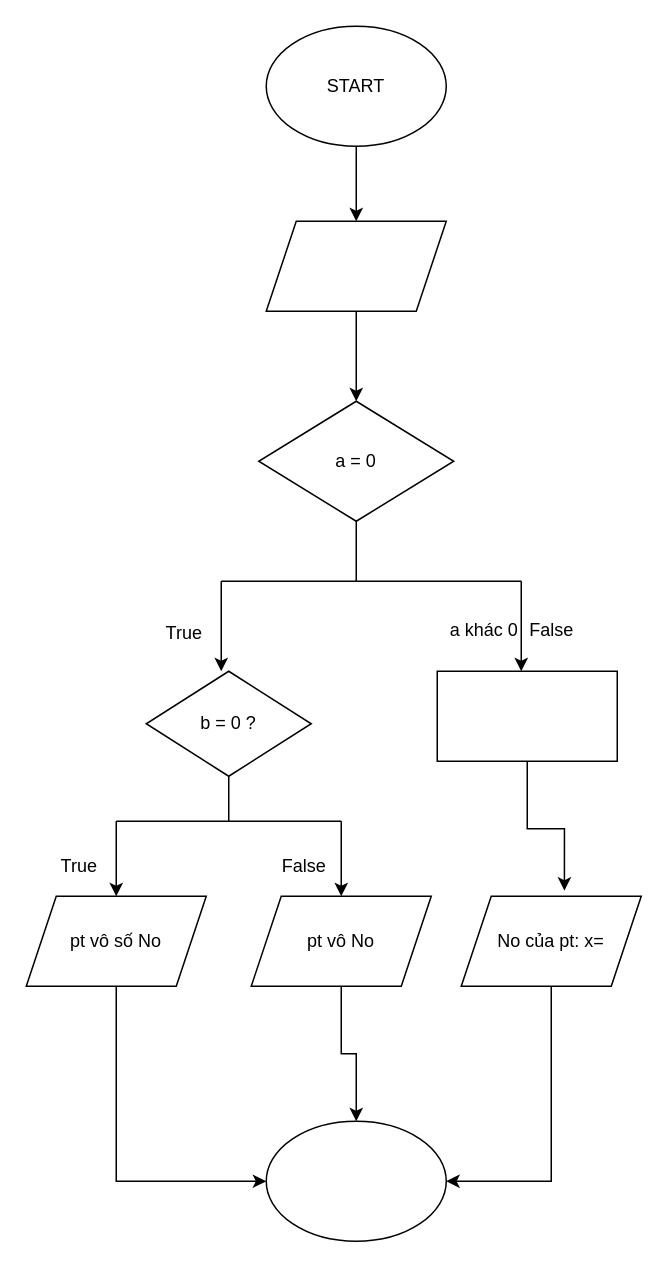
Image size: 668x1268. Some labels were removed from this diagram. The box of each missing label's shape, as (x1, y1, x2, y2) in pixels:
END: (265, 1120, 446, 1241)
Nhập giá trị pt: (265, 220, 446, 311)
Tính x = -b/a: (436, 670, 617, 761)
